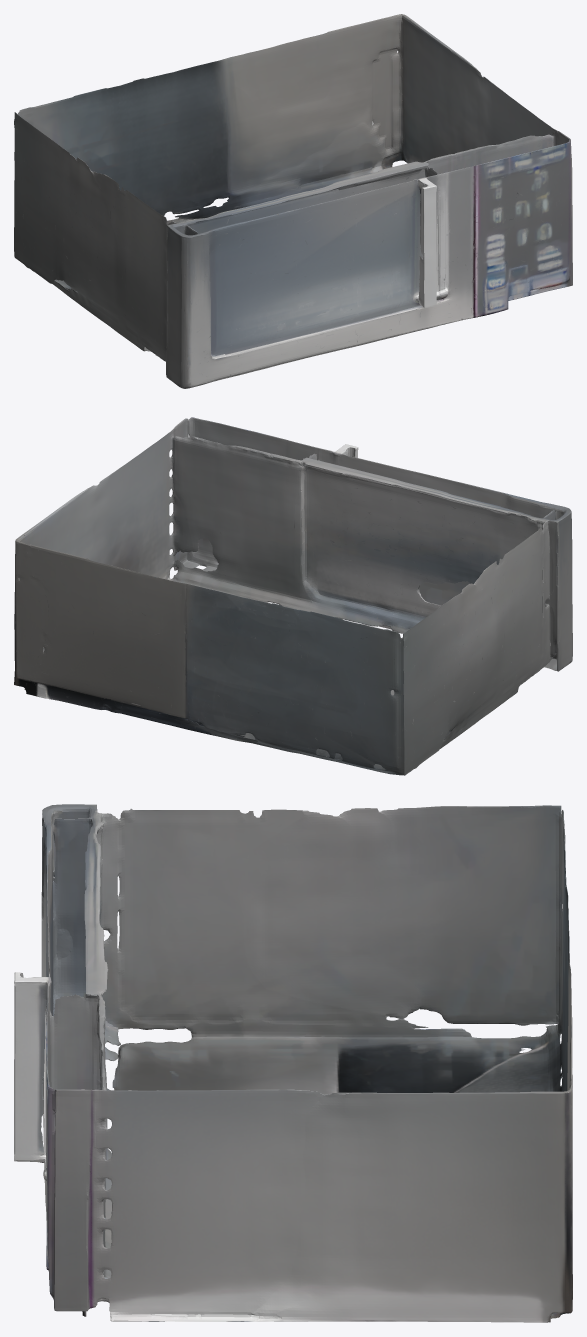
The picture shows the model from 3 angles, top to bottom: view 1: azimuth 30°, elevation 25°; view 2: azimuth 150°, elevation 25°; view 3: azimuth 270°, elevation 25°; orthographic projection. The views are drawn at different scales.
Visible parts, largest first — view 1: world; view 2: world; view 3: world.
Part boxes in pixels (<box>): world: <box>14,14,572,388</box>; world: <box>14,417,572,775</box>; world: <box>14,804,572,1322</box>.
Size of the model in its own units: 0.9835 by 0.3693 by 0.7916.
1 material, 1 textured.
